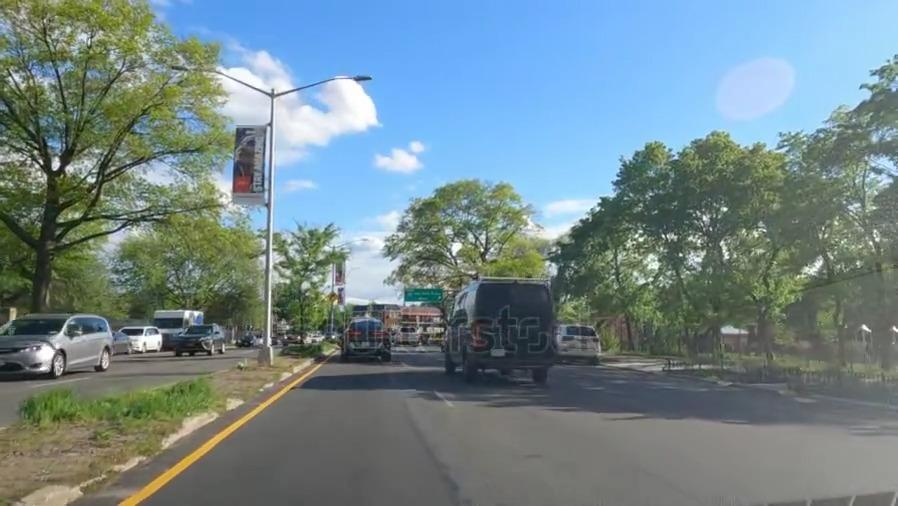car: (0, 314, 114, 380), (341, 321, 391, 361), (177, 320, 223, 357), (558, 323, 602, 361), (122, 324, 163, 352), (395, 321, 419, 346), (109, 330, 132, 353)
van: (442, 282, 561, 384)
wheel: (47, 347, 70, 378), (98, 346, 112, 371)
